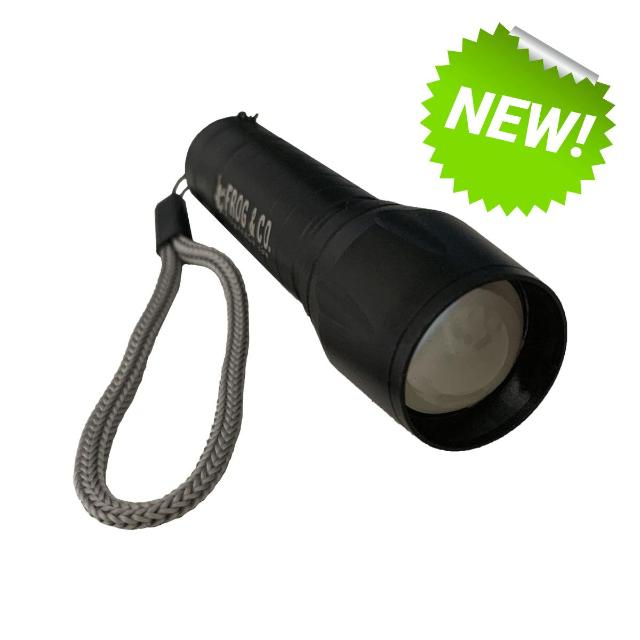Flashlight: (61, 100, 577, 536)
